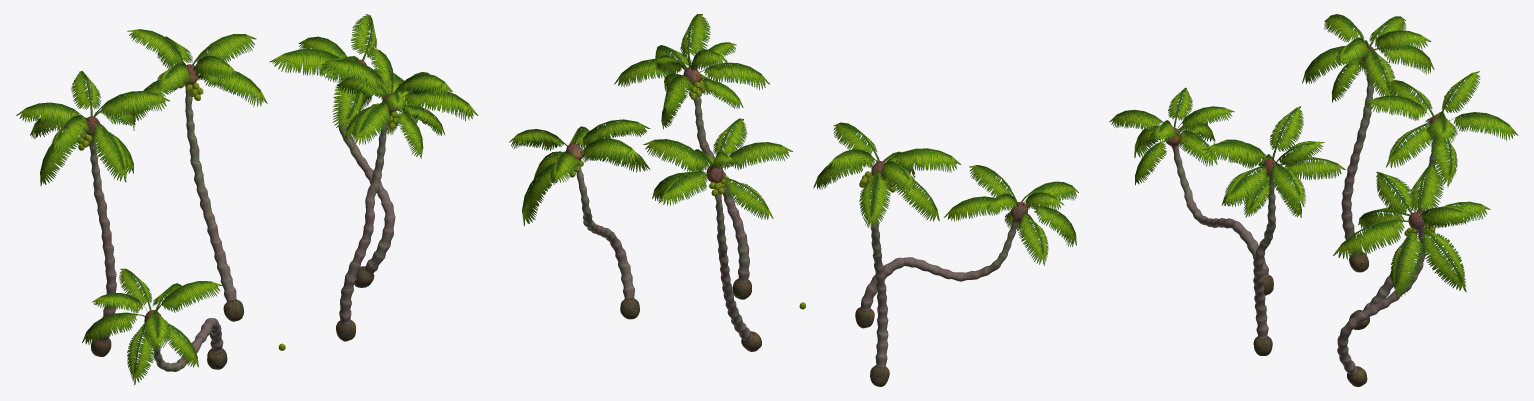
The model's file is coconut_trees.glb.
3 views of the same model, side by side, from view 1: azimuth 30°, elevation 25°; view 2: azimuth 150°, elevation 25°; view 3: azimuth 270°, elevation 25° (orthographic). The views are drawn at different scales.
Visible parts, largest first — view 1: PalmTree1, PalmTree4, PalmTree2, PalmTree3, PalmTree5; view 2: PalmTree1, PalmTree4, PalmTree2, PalmTree3, PalmTree5; view 3: PalmTree5, PalmTree1, PalmTree4, PalmTree2, PalmTree3.
Boxes of the visible parts, bbox=[...] form: PalmTree1: bbox=[321, 48, 478, 341]; PalmTree4: bbox=[16, 71, 169, 356]; PalmTree2: bbox=[127, 29, 267, 321]; PalmTree3: bbox=[82, 268, 227, 384]; PalmTree5: bbox=[269, 14, 424, 287]; PalmTree1: bbox=[614, 14, 769, 299]; PalmTree4: bbox=[813, 122, 961, 386]; PalmTree2: bbox=[643, 118, 792, 351]; PalmTree3: bbox=[855, 165, 1078, 328]; PalmTree5: bbox=[509, 119, 650, 319]; PalmTree5: bbox=[1333, 164, 1490, 386]; PalmTree1: bbox=[1202, 106, 1345, 355]; PalmTree4: bbox=[1302, 14, 1434, 272]; PalmTree2: bbox=[1349, 71, 1518, 329]; PalmTree3: bbox=[1109, 87, 1273, 295].
Size of the model in its own units: 20.51 by 12 by 17.45.
Materials: 2 (2 with a texture image).
